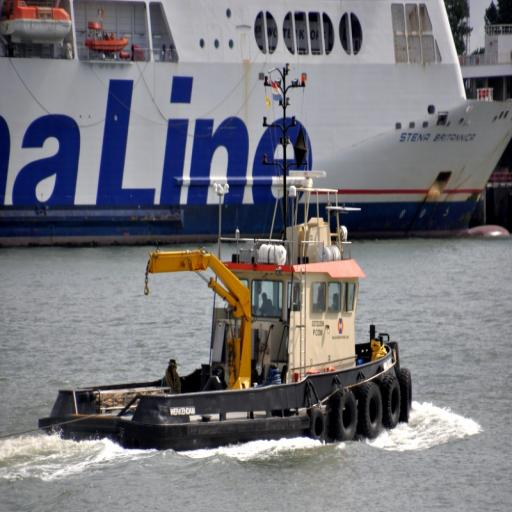tugboat: (37, 165, 417, 465)
